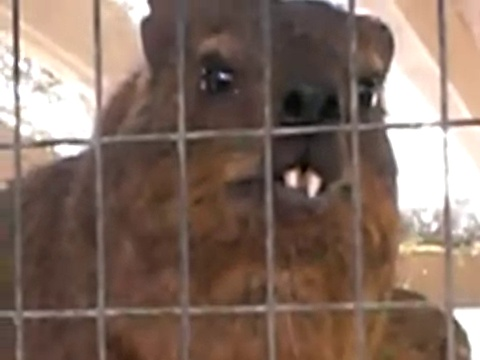Rock Hyrex: (1, 1, 399, 359)
